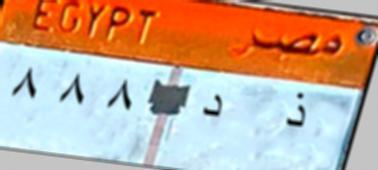8: (103, 74, 136, 116), (9, 63, 42, 104), (54, 71, 88, 108)
daal: (197, 92, 228, 125)
zaal: (280, 85, 310, 139)
